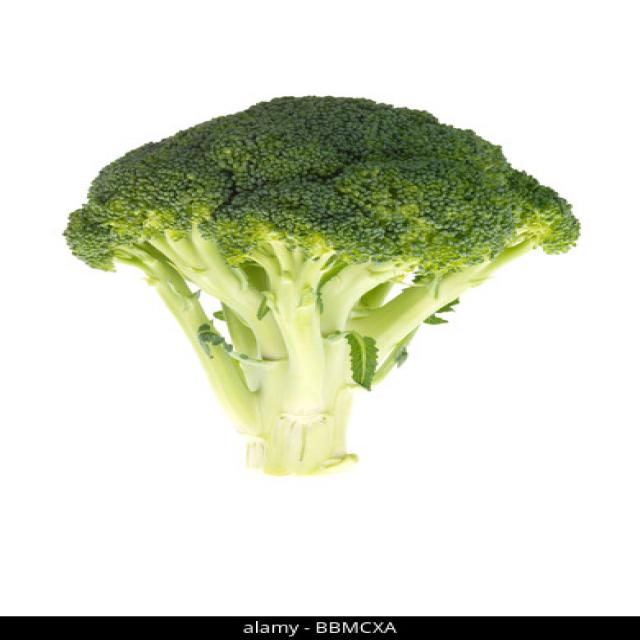broccoli: (60, 93, 584, 476)
